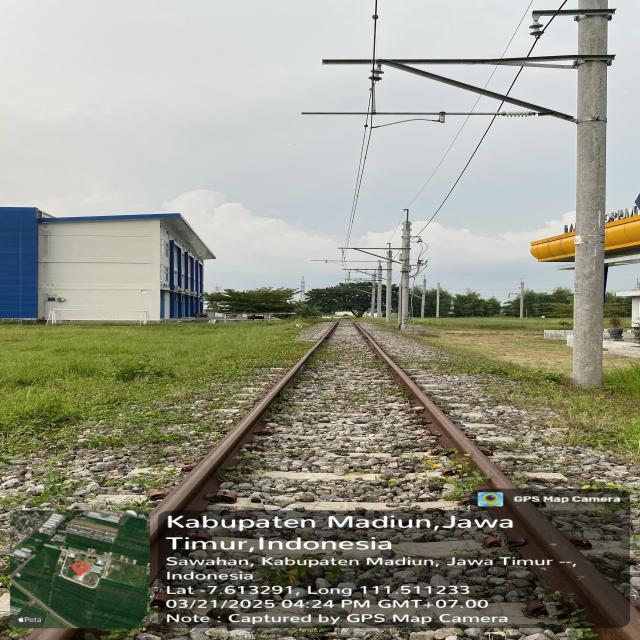rail-detection: (354, 323, 632, 627), (150, 322, 339, 580)
